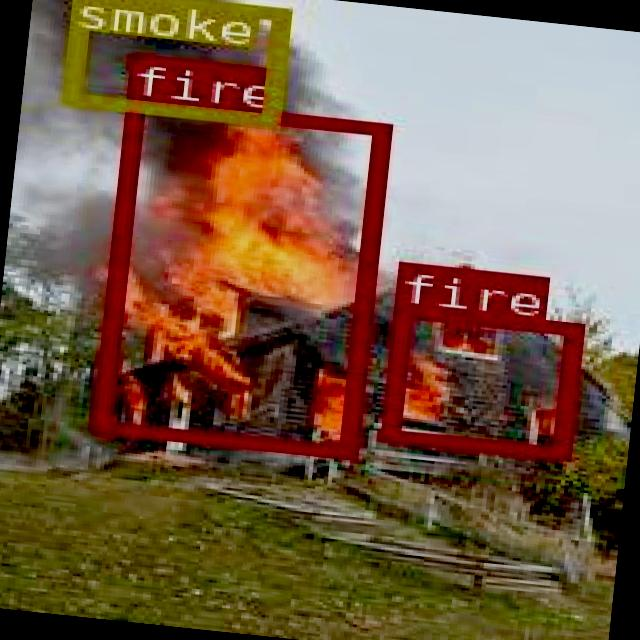fire: (87, 93, 388, 457), (378, 303, 578, 457)
smoke: (58, 0, 285, 123)
